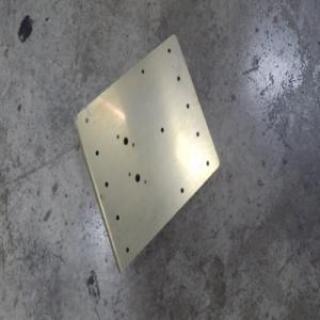MetalSheettrack_idkeyframe: (70, 31, 220, 275)
